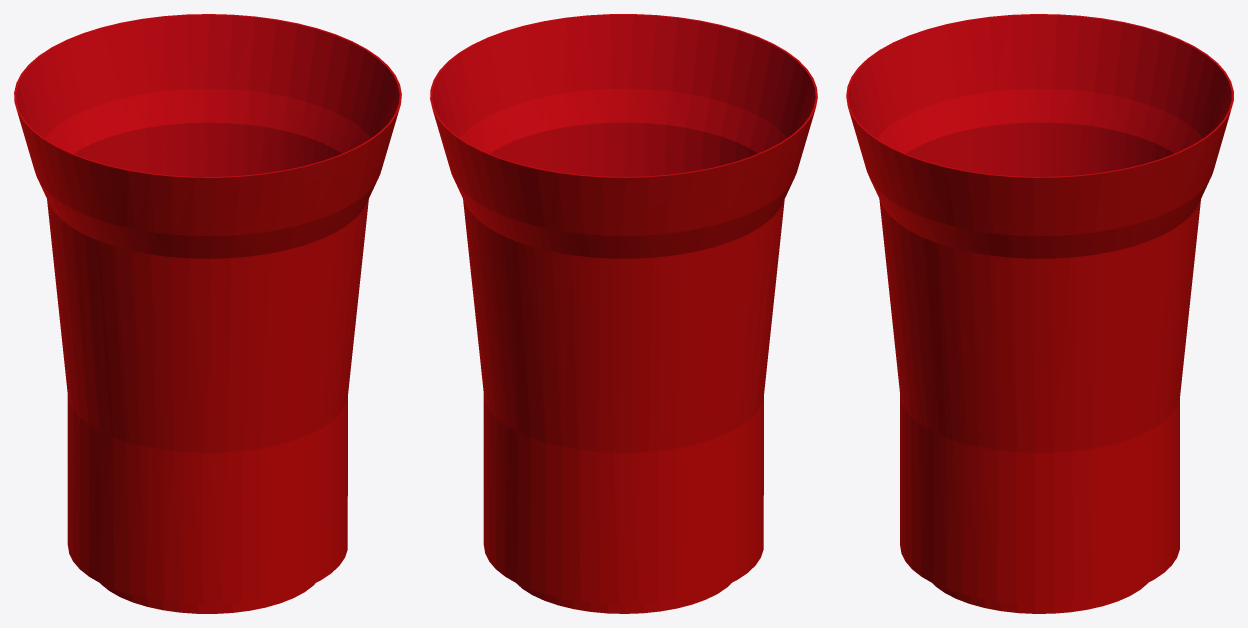
File: cup.dae
The picture shows the model from 3 angles, left to right: view 1: azimuth 30°, elevation 25°; view 2: azimuth 150°, elevation 25°; view 3: azimuth 270°, elevation 25°; orthographic projection.
Visible parts, largest first — view 1: cup; view 2: cup; view 3: cup.
Part boxes in pixels (x1=…): cup: x1=14, y1=14, x2=401, y2=613; cup: x1=430, y1=14, x2=817, y2=613; cup: x1=846, y1=14, x2=1233, y2=613.
Bounding box in the file's own units: 0.09 × 0.0899 × 0.12.
